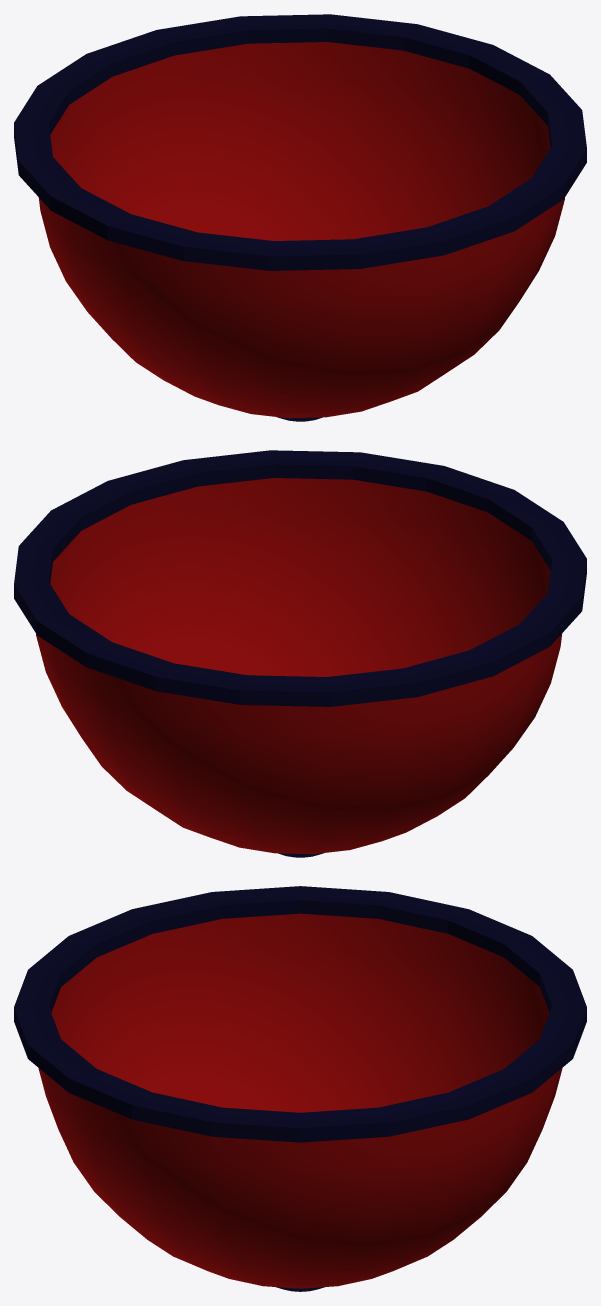
File: cielinglight1.fbx
The picture shows the model from 3 angles, top to bottom: view 1: azimuth 30°, elevation 25°; view 2: azimuth 150°, elevation 25°; view 3: azimuth 270°, elevation 25°; orthographic projection.
Parts seen in each view (by area): view 1: pSphere6, pSphere5; view 2: pSphere6, pSphere5; view 3: pSphere6, pSphere5.
Part boxes in pixels (x1,y1,x2,y2): pSphere6: (38, 42, 564, 418); pSphere5: (14, 14, 586, 421); pSphere6: (36, 478, 562, 854); pSphere5: (14, 450, 586, 857); pSphere6: (38, 913, 562, 1288); pSphere5: (14, 886, 586, 1291).
Bounding box in the file's own units: 4.72 × 2.51 × 4.72.
